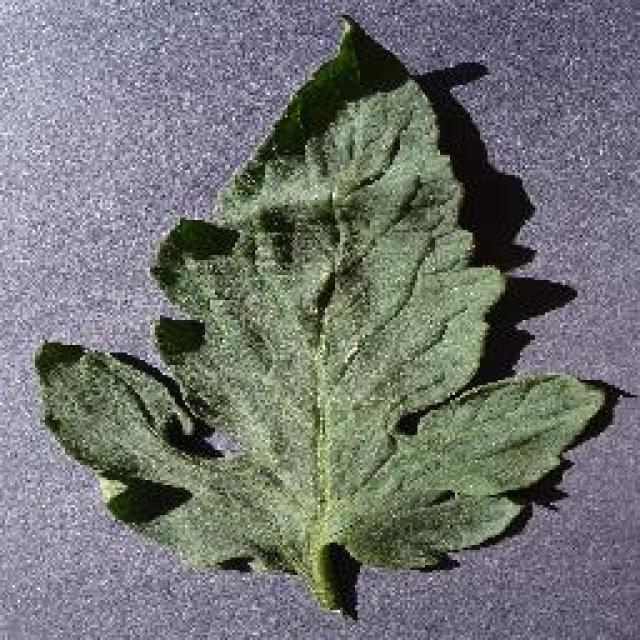Tomato___healthy: (31, 17, 607, 616)
